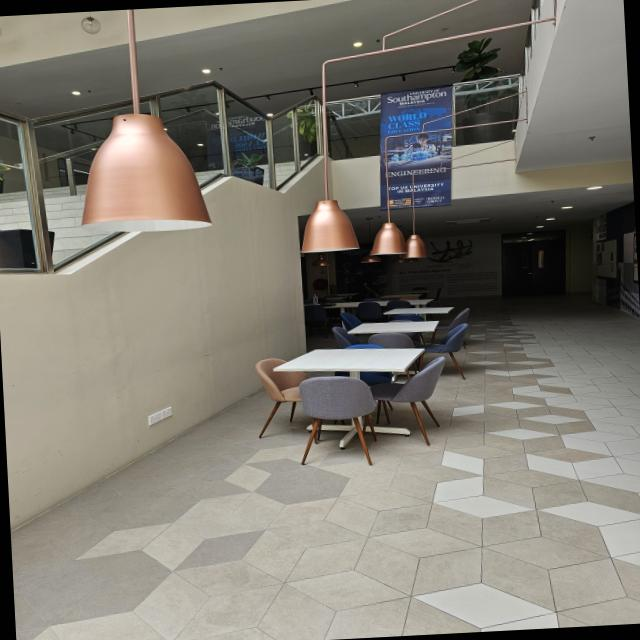footpath: (13, 457, 640, 640)
obstacle: (253, 343, 457, 470)
